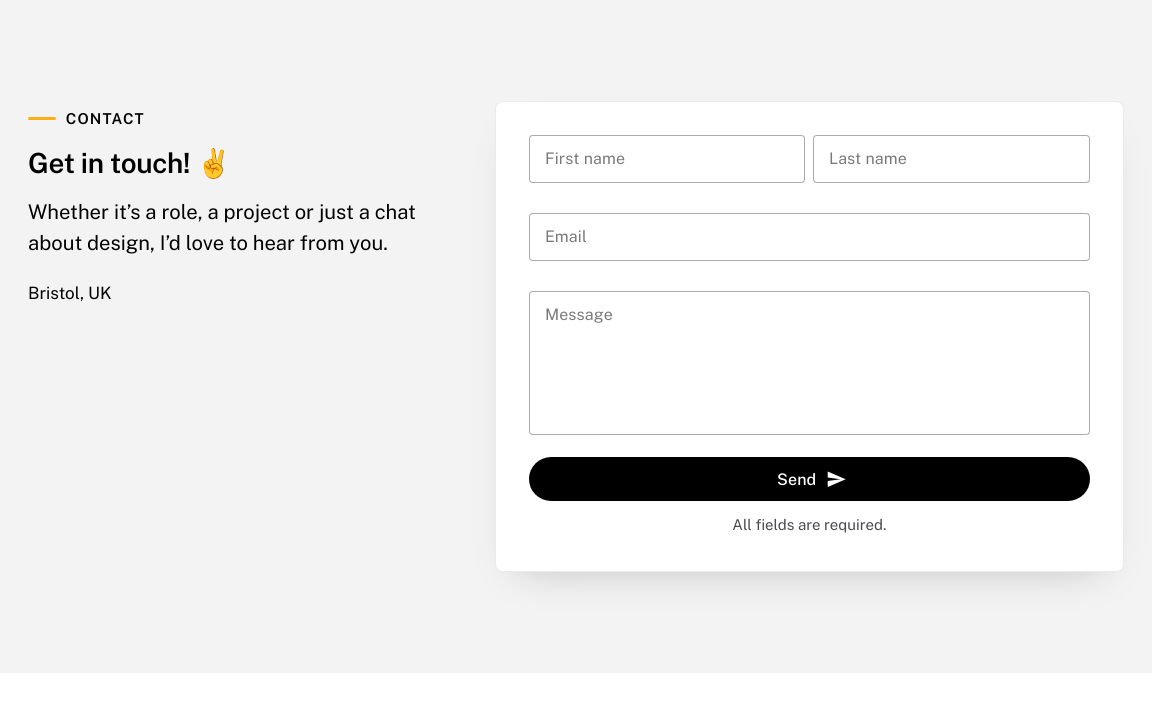
Test: Contact page form › sends the message to Netlify and thanks the visitor
Type "Ada" into the field labelled "First name" at (667, 159), box [529,135,805,183]
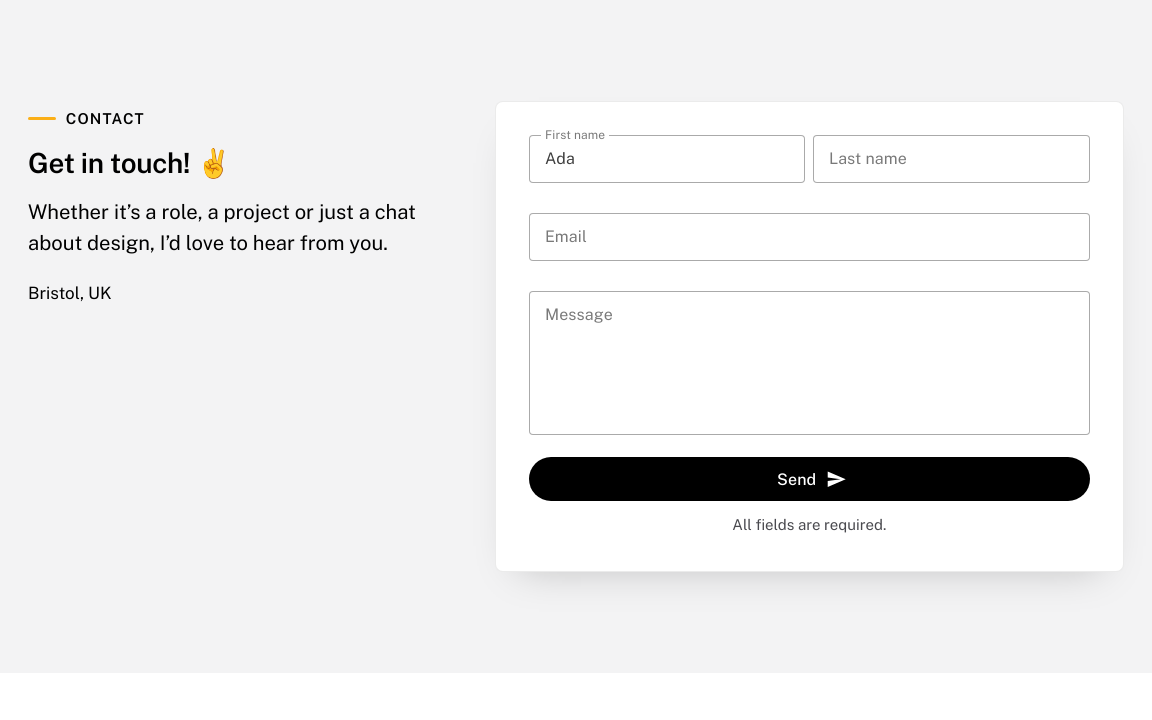
Type "Lovelace" into the field labelled "Last name" at (952, 159), box [813,135,1090,183]
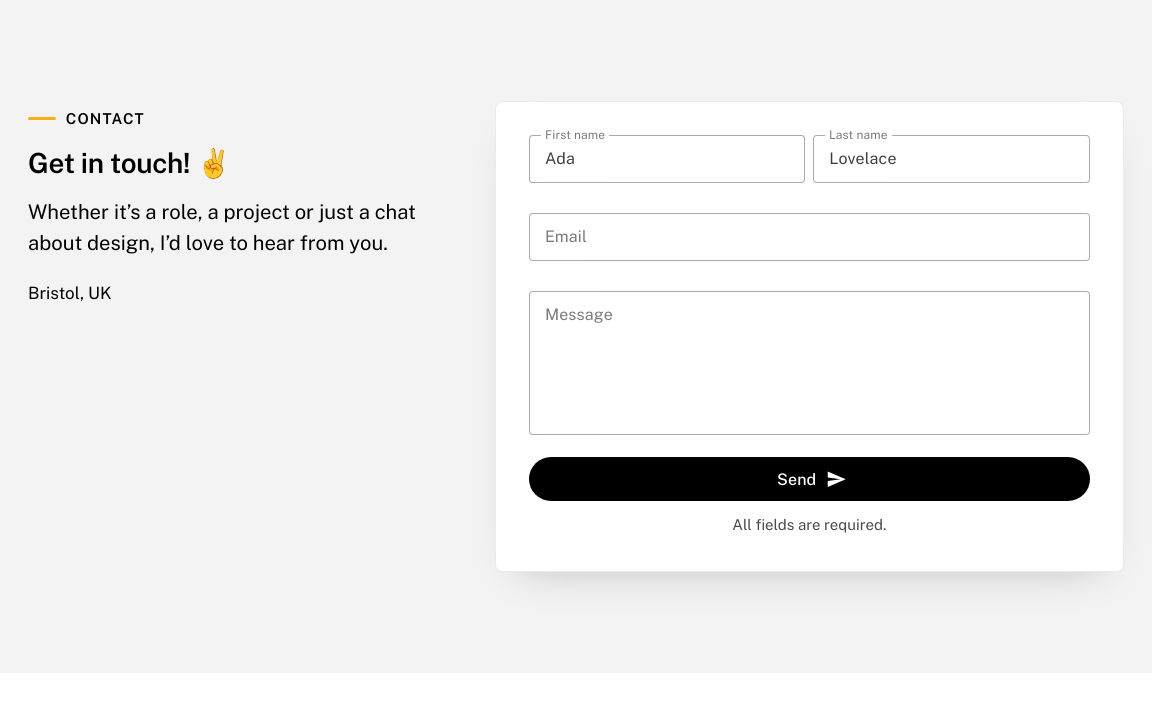
Type "ada@example.com" into the field labelled "Email" at (809, 237), box [529,213,1090,261]
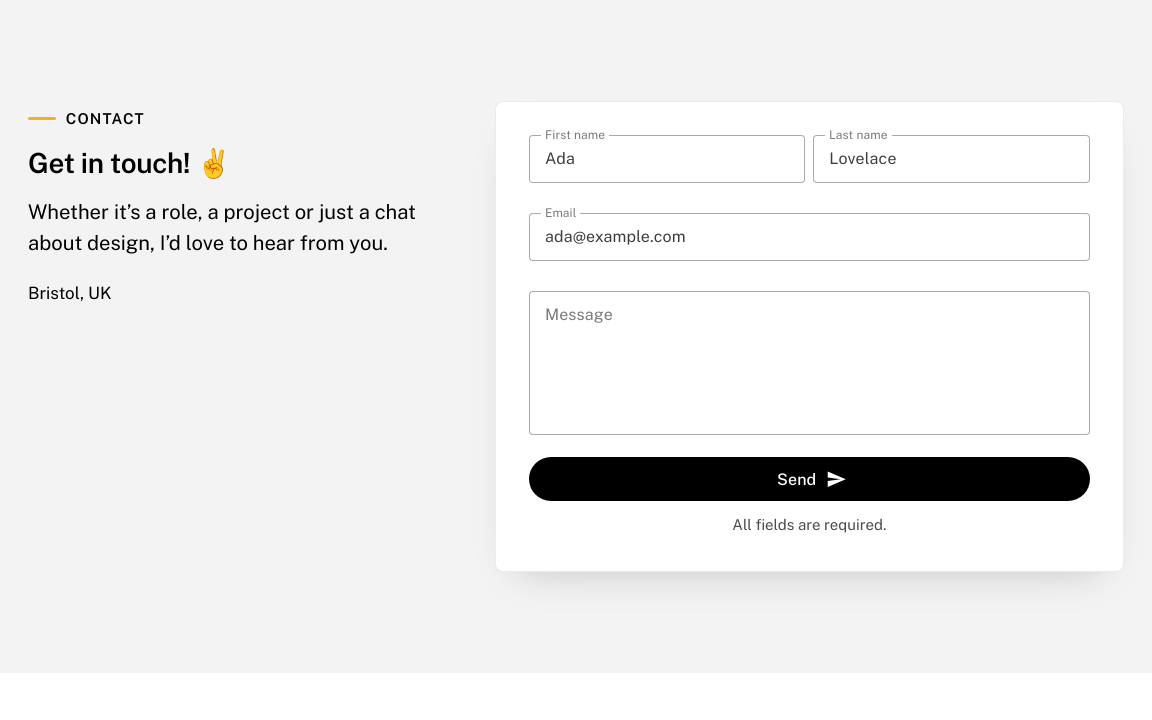
Type "Hello Tom" into the text box named "message" at (809, 363), box [529,291,1090,435]
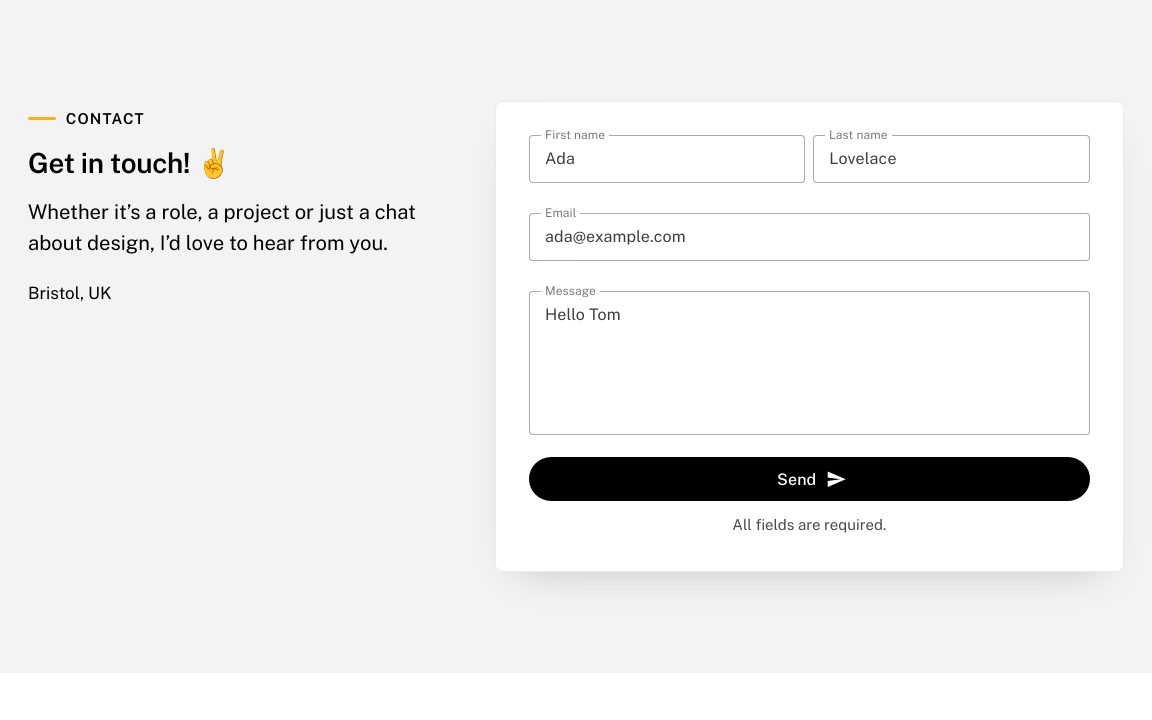
Submit the form, box [529,135,1090,537]
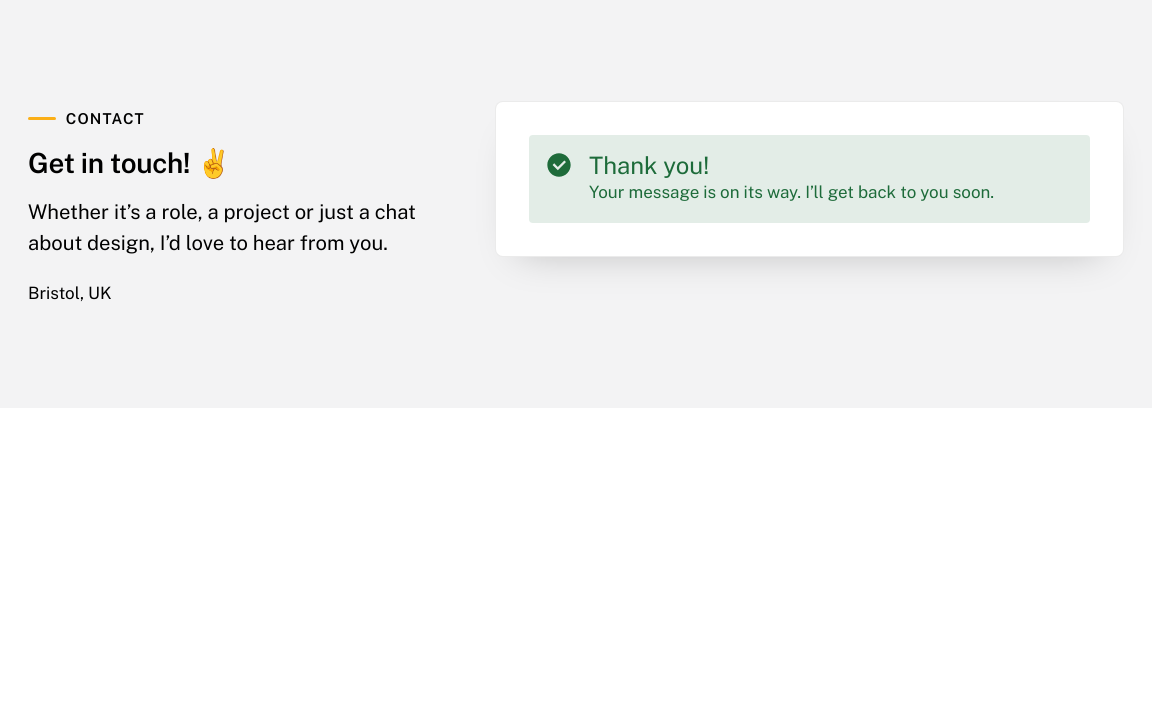
Result: the text "Thank you!" is shown at [589,151,709,179]
